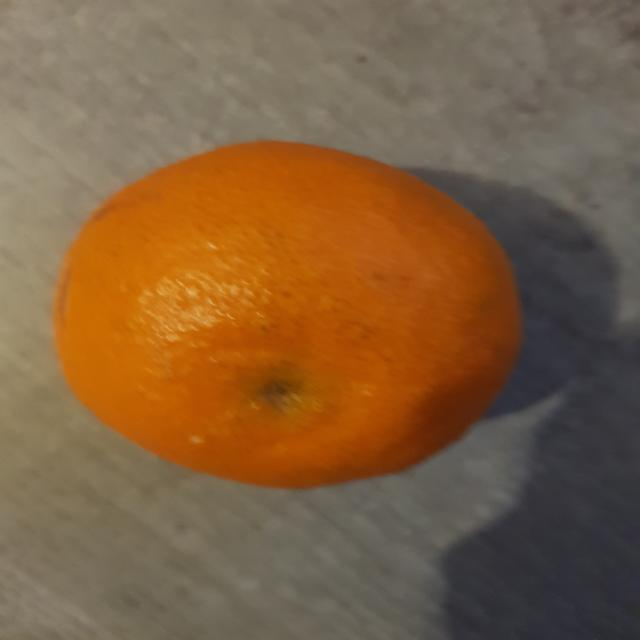Orange: (51, 141, 525, 493)
